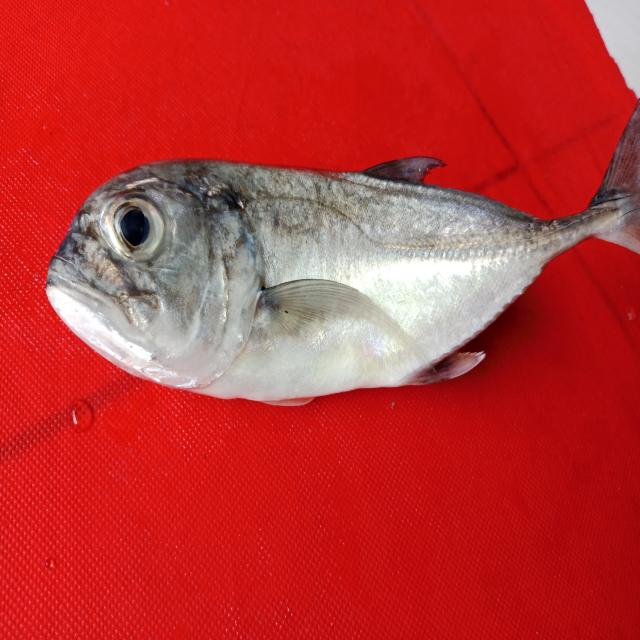ikan: (29, 120, 626, 422)
